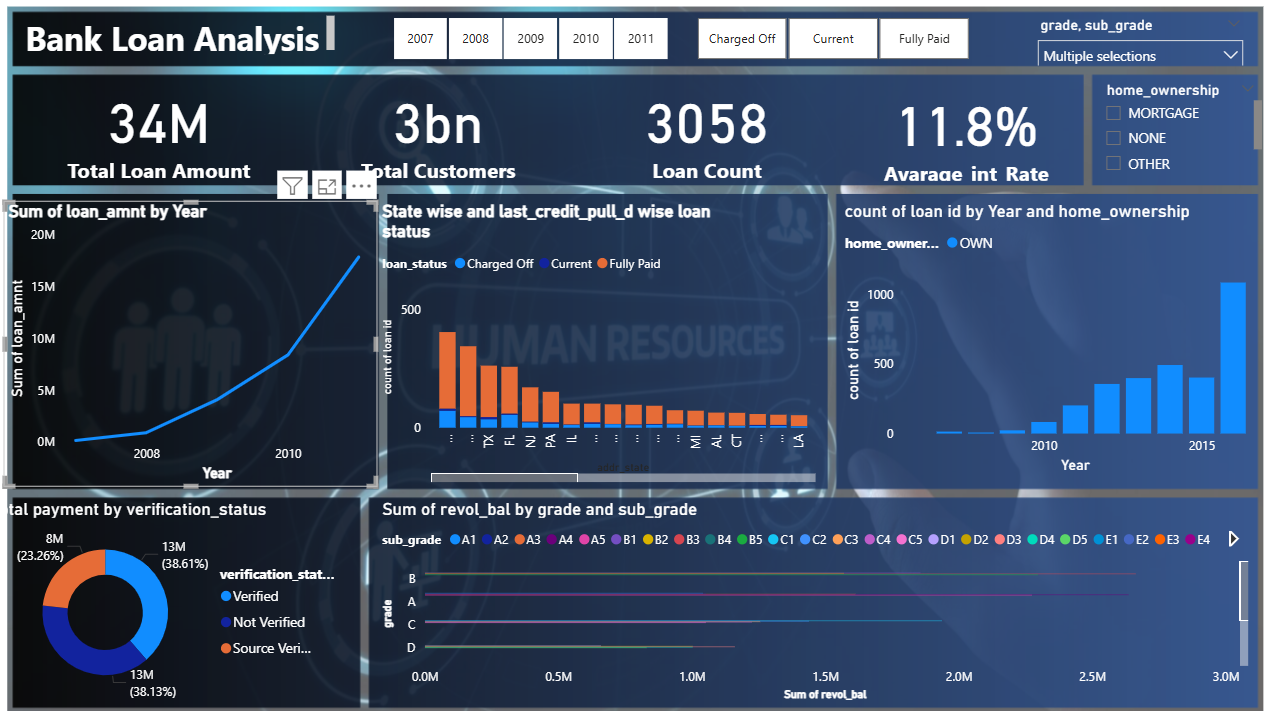

The dashboard page shown, as its layout file describes it:
{"tool":"powerbi","page":{"name":"Dashboard","canvas":[1280,720],"ordinal":6},"visuals":[{"type":"image","title":"Home Ownership Vs LAst Payment date Stts","box":[9.8,0,1270.5,720.2],"z":0},{"type":"textbox","box":[42.8,28.1,313,47.7],"z":1000},{"type":"card","fields":{"Values":["Finance_1.Total Loan Amount"]},"box":[39.1,92.9,280,103.9],"z":2000},{"type":"card","fields":{"Values":["Finance_1.Loan Count"]},"box":[585.7,92.9,259.2,103.9],"z":3000},{"type":"card","fields":{"Values":["Finance_1.Total Customers"]},"box":[319.2,92.9,266.6,103.9],"z":4000},{"type":"card","fields":{"Values":["Finance_1.Avarage_int_Rate"]},"box":[845,95.4,248.2,103.9],"z":5000},{"type":"lineChart","fields":{"Category":["Finance_1.issue_d.Variation.Date Hierarchy.Year"],"Y":["Sum(Finance_1.loan_amnt)"]},"box":[26.9,214,365.6,280],"z":6000},{"type":"clusteredBarChart","fields":{"Category":["Finance_1.grade"],"Series":["Finance_1.sub_grade"],"Y":["Sum(Finance_2.revol_bal)"]},"box":[392.5,505,857.2,203],"z":7000},{"type":"donutChart","fields":{"Category":["Finance_1.verification_status"],"Y":["Finance_1.Total payment"]},"box":[9.4,505.1,346.6,202.9],"z":8000},{"type":"columnChart","title":"State wise and last_credit_pull_d wise loan status","fields":{"Category":["Finance_1.addr_state"],"Series":["Finance_1.loan_status"],"Y":["Finance_1.count of loan id"]},"box":[392.5,214,434.1,280],"z":9000},{"type":"columnChart","fields":{"Category":["Finance_2.last_credit_pull_d.Variation.Date Hierarchy.Year"],"Y":["Finance_1.count of loan id"],"Series":["Finance_1.home_ownership"]},"box":[845,214,404.8,271.5],"z":10000},{"type":"slicer","fields":{"Values":["Finance_1.loan_status"]},"box":[679.9,28.1,315.5,53.8],"z":11000},{"type":"slicer","fields":{"Values":["Finance_1.issue_d.Variation.Date Hierarchy.Year"]},"box":[382.7,28.1,317.9,53.8],"z":12000},{"type":"slicer","fields":{"Values":["Finance_1.home_ownership"]},"box":[1093.2,91.7,170,106.4],"z":13000},{"type":"slicer","fields":{"Values":["Finance_1.grade","Finance_1.sub_grade"]},"box":[1028.4,28.1,221.3,53.8],"z":14000}]}

Visuals, with their boxes in screenshot pixels (x1, y1, x2, y2), scaled from the page's 1280x720 canvas onto the 1267x711 screenshot:
"Home Ownership Vs LAst Payment date Stts" image: (10,0,1266,710)
textbox: (42,28,352,75)
card - Finance_1.Total Loan Amount: (39,92,316,194)
card - Finance_1.Loan Count: (580,92,836,194)
card - Finance_1.Total Customers: (316,92,580,194)
card - Finance_1.Avarage_int_Rate: (836,94,1082,197)
lineChart - Finance_1.issue_d.Variation.Date Hierarchy.Year x Sum(Finance_1.loan_amnt): (27,211,389,488)
clusteredBarChart - Finance_1.grade x Finance_1.sub_grade: (389,499,1237,699)
donutChart - Finance_1.verification_status x Finance_1.Total payment: (9,499,352,699)
"State wise and last_credit_pull_d wise loan status" columnChart: (389,211,818,488)
columnChart - Finance_2.last_credit_pull_d.Variation.Date Hierarchy.Year x Finance_1.count of loan id: (836,211,1237,479)
slicer - Finance_1.loan_status: (673,28,985,81)
slicer - Finance_1.issue_d.Variation.Date Hierarchy.Year: (379,28,693,81)
slicer - Finance_1.home_ownership: (1082,91,1250,196)
slicer - Finance_1.grade x Finance_1.sub_grade: (1018,28,1237,81)
